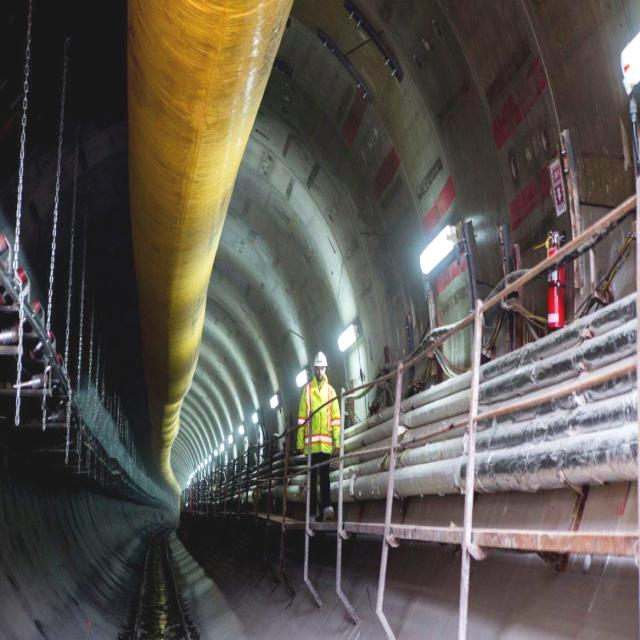head_helmet: (312, 350, 330, 368)
person: (296, 351, 342, 518)
vest: (297, 378, 336, 452)
